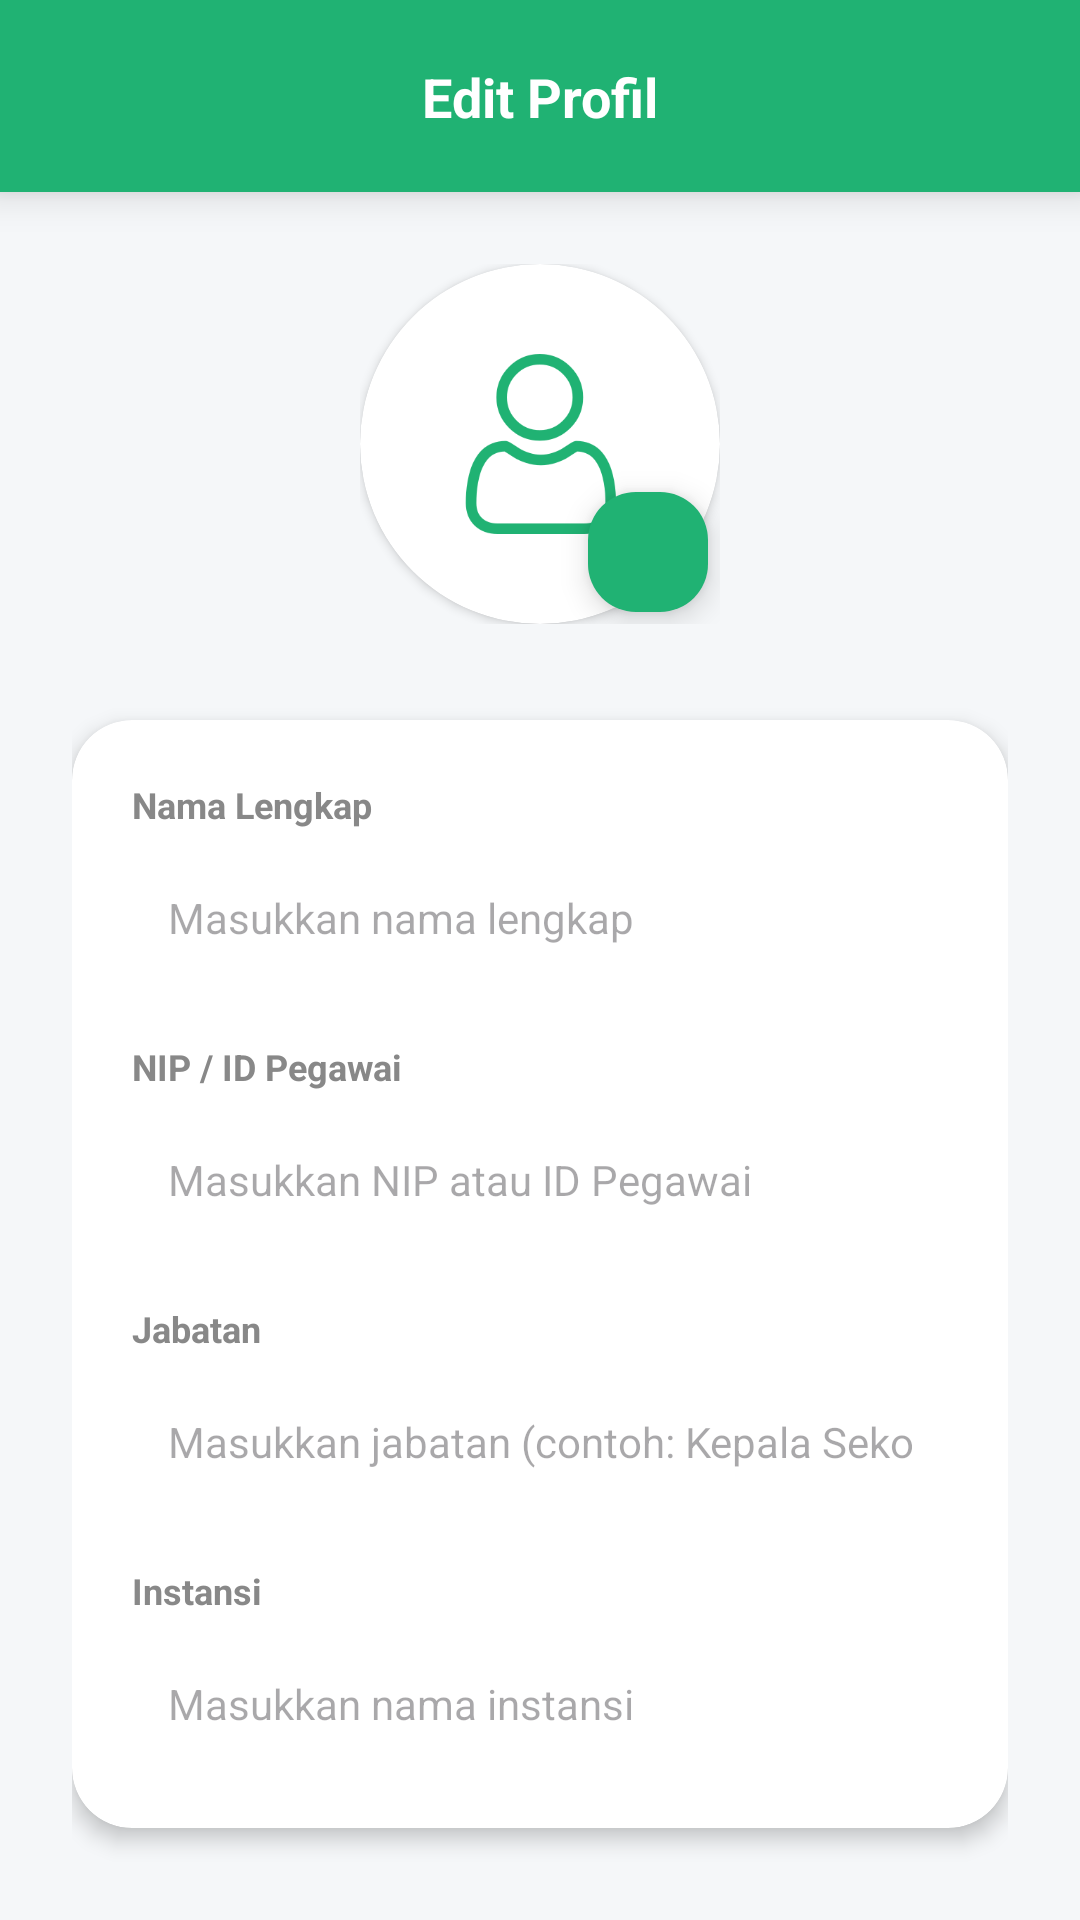

Icon bounding boxes for this 1080w x 1920h phone screenshot, format (x1, y1, x2, y2):
Ikon profil: (360, 264, 720, 624)
